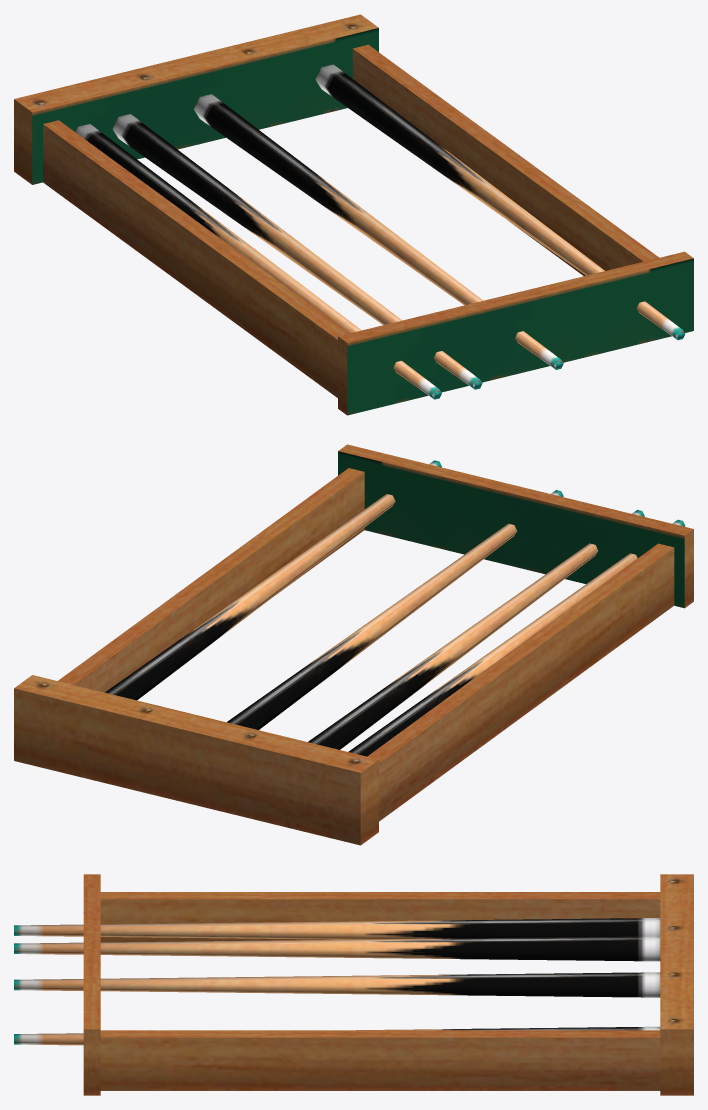
File: cuerack4.fbx
3 views of the same model, one above another, from view 1: azimuth 30°, elevation 25°; view 2: azimuth 150°, elevation 25°; view 3: azimuth 270°, elevation 25° (orthographic). The views are drawn at different scales.
Parts seen in each view (by area): view 1: mesh_0; view 2: mesh_0; view 3: mesh_0.
Boxes of the visible parts, x1=… form: mesh_0: x1=14, y1=14, x2=693, y2=415; mesh_0: x1=14, y1=444, x2=693, y2=845; mesh_0: x1=14, y1=874, x2=693, y2=1095.
Bounding box in the file's own units: 100 × 20 × 186.
Materials: 1 (1 with a texture image).
